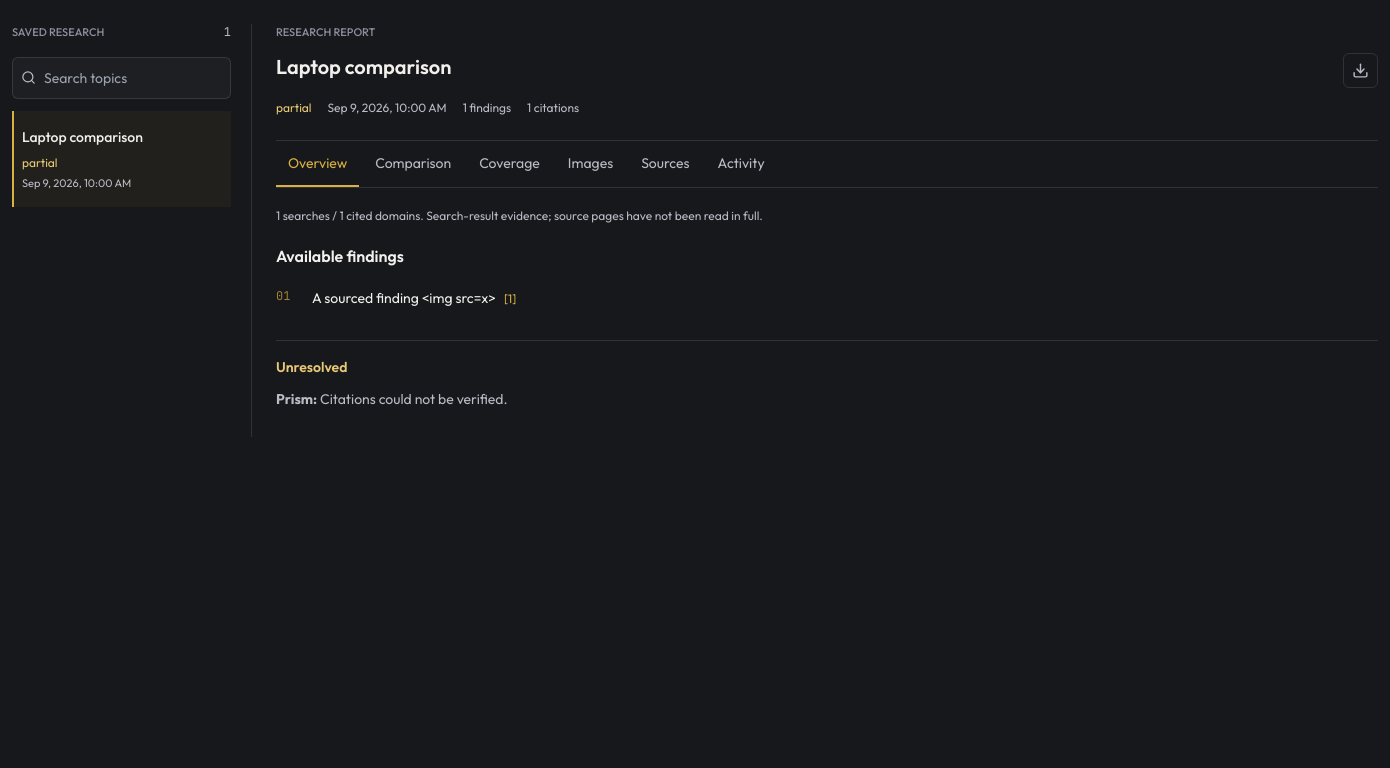
Scenario: saved research reports › shows scored source and image relevance without implying verification
What coordinates should you click on to do the following:
click the tab "Sources"
I would click on:
 (665, 164)
Its box is [629,140,702,186].
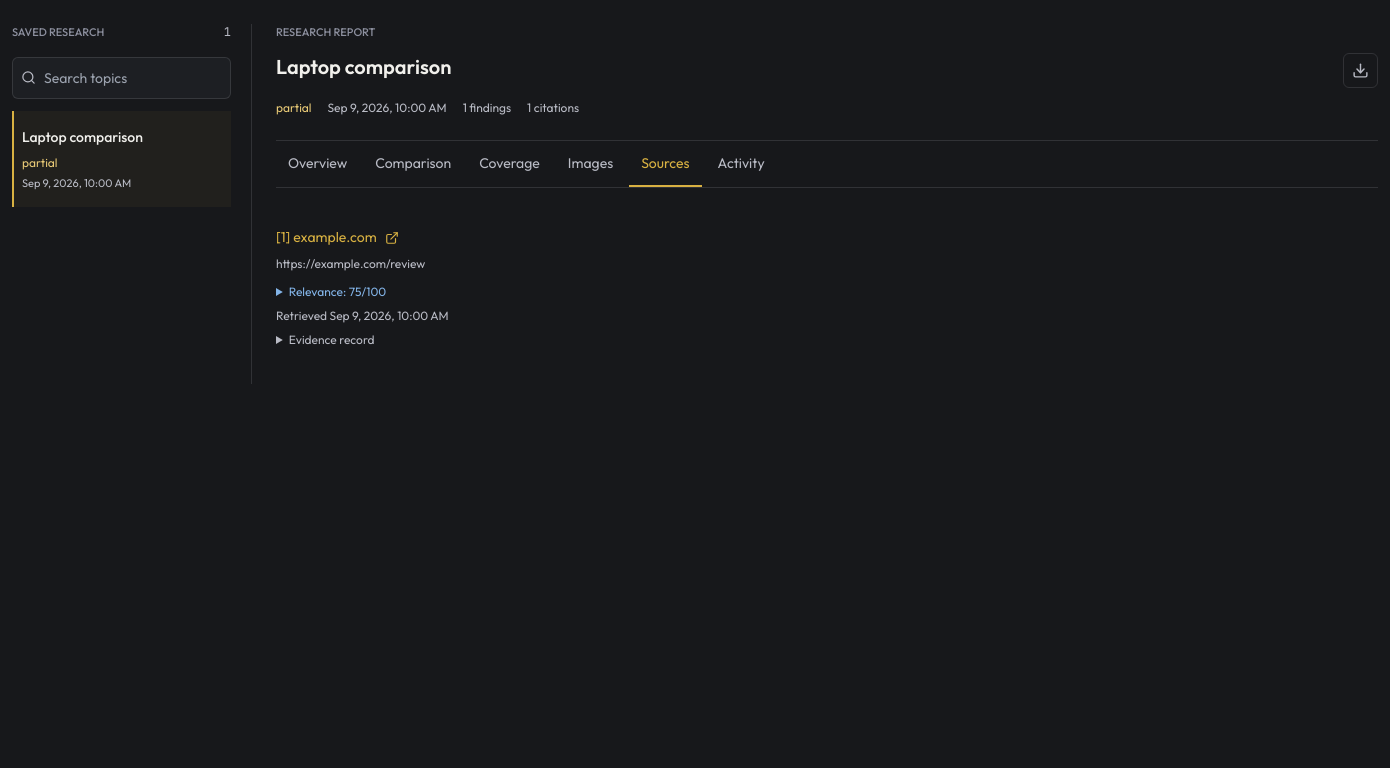
expect the text "Relevance: 75/100" is shown: met, box [289,284,386,298]
What coordinates should you click on to do the following:
click the tab "Images"
I would click on:
 (590, 164)
Its box is [556,140,625,186].
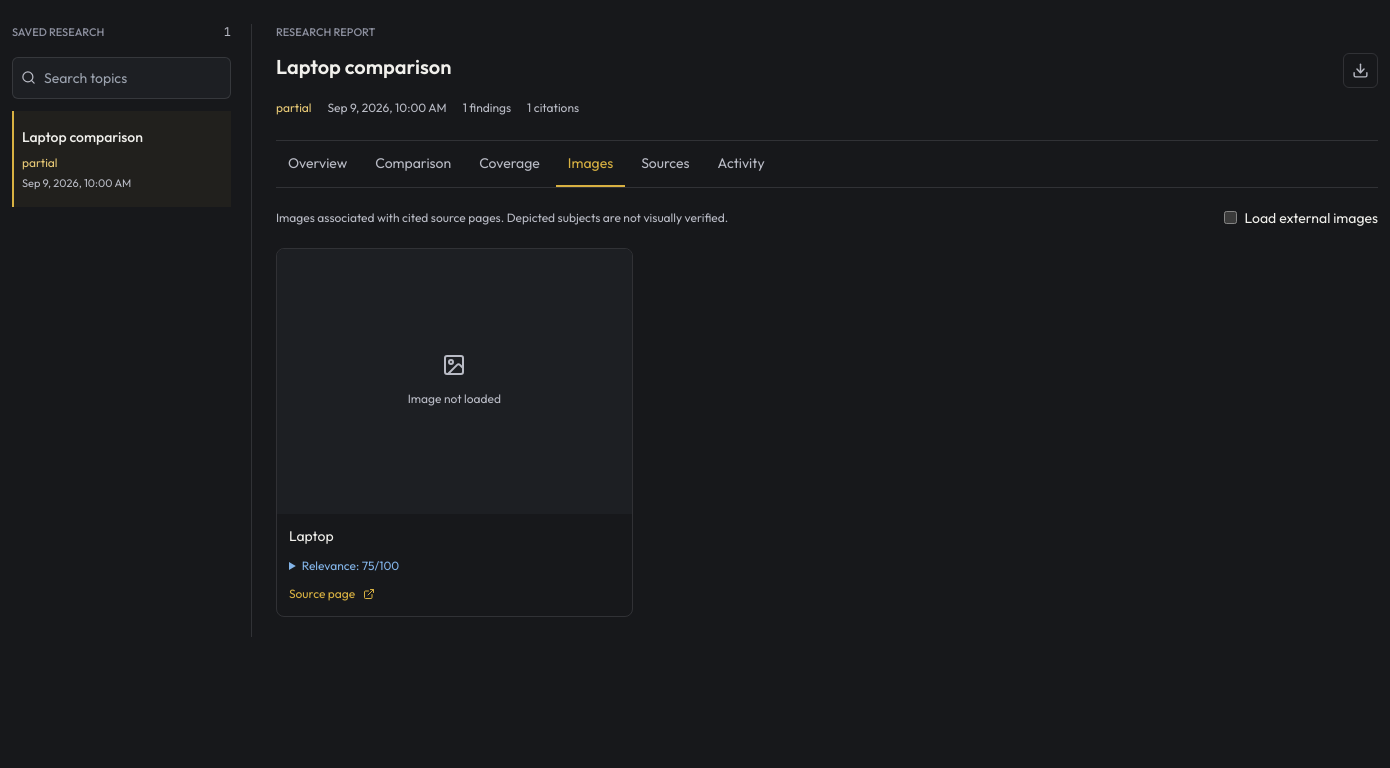
expect the element showing "Image not loaded Laptop Relevance: 75/100 Source page" is shown: met, box [276,248,633,618]
What coordinates should you click on to do the following:
click the tab "Coverage"
I would click on:
 (510, 164)
Its box is [467,140,552,186].
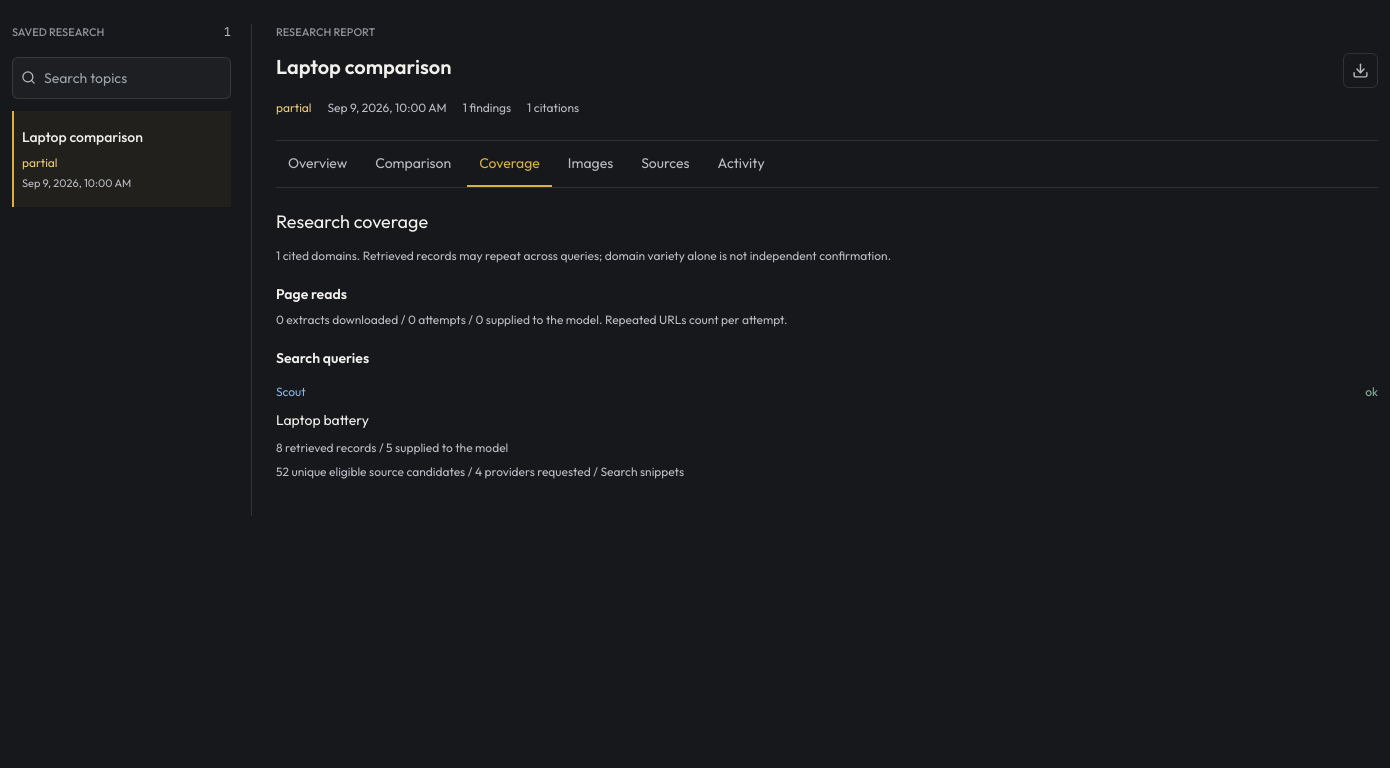
expect the text "52 unique eligible source candidates / 4 providers requested / Search snippets" is shown: met, box [276,464,684,478]
expect the text "0 extracts downloaded / 0 attempts / 0 supplied to the model" is shown: met, box [276,312,788,326]
